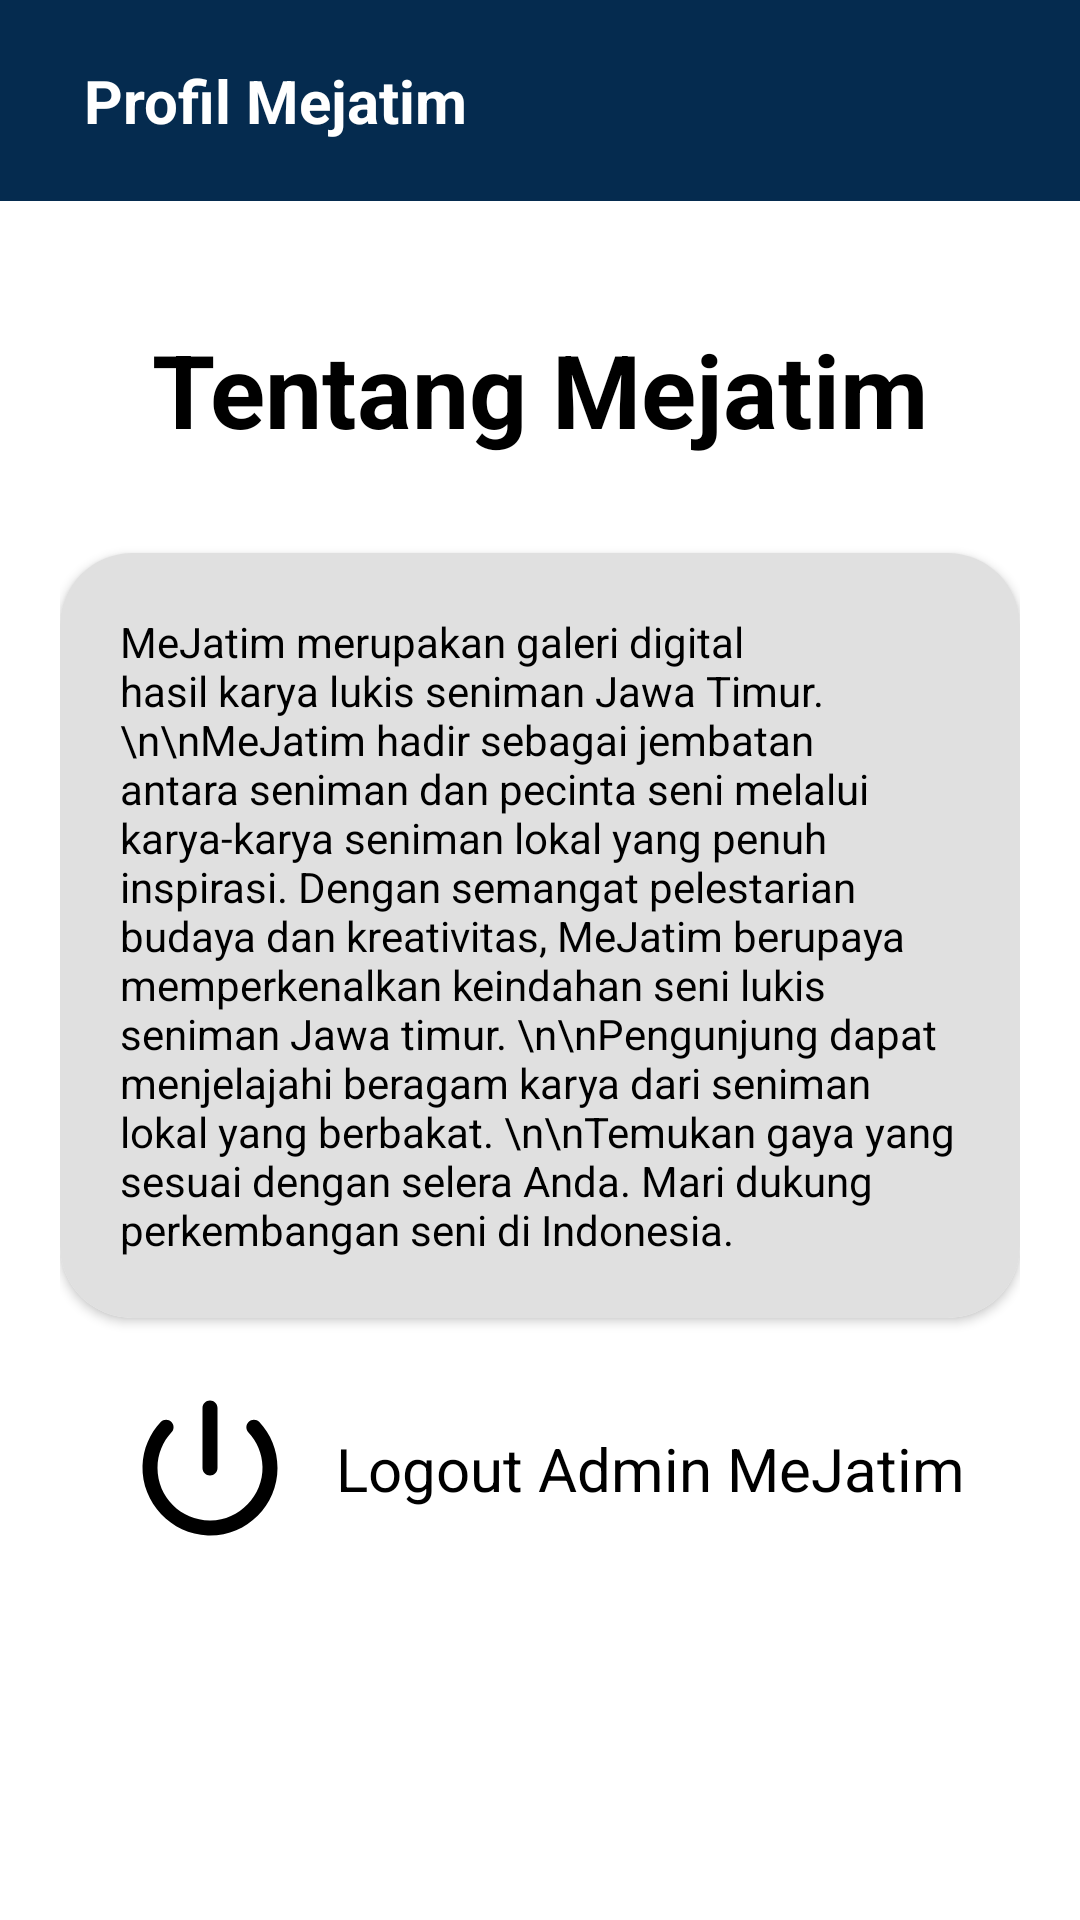

Screen size 1080 × 1920. Icon name, then its center in pixels as point (x, y):
power settings: point (210, 1468)
